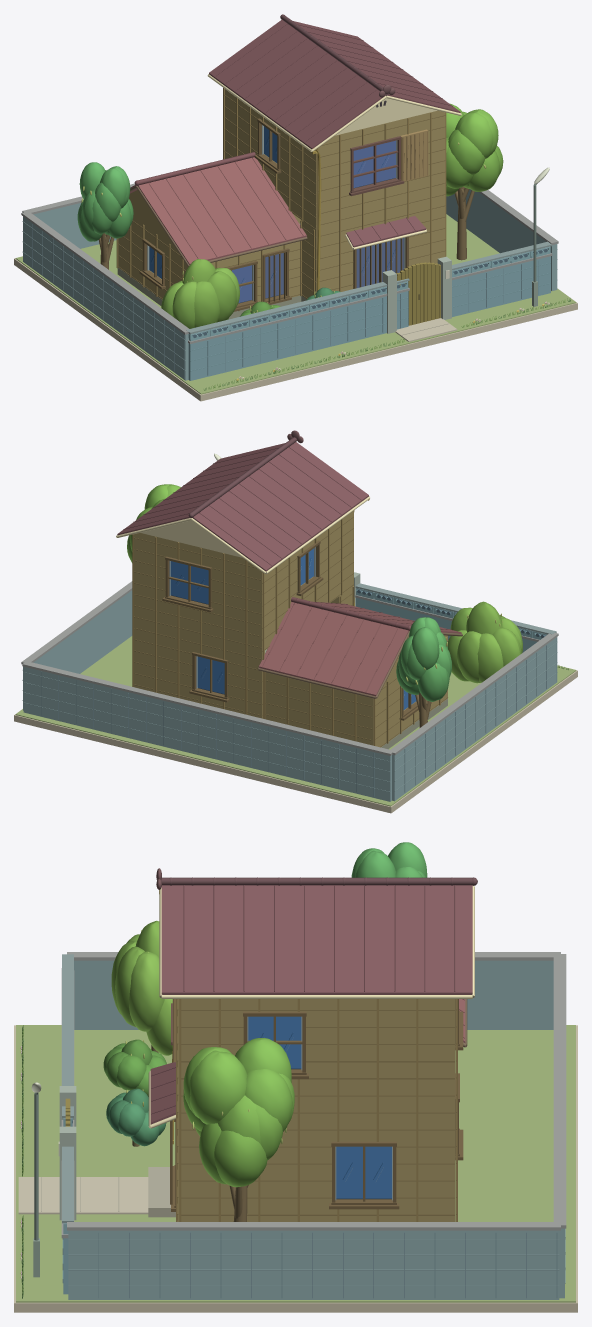
File: kosugi-house.glb
The picture shows the model from 3 angles, top to bottom: view 1: azimuth 30°, elevation 25°; view 2: azimuth 150°, elevation 25°; view 3: azimuth 270°, elevation 25°; orthographic projection. The views are drawn at different scales.
Visible parts, largest first — view 1: 庭院植物, 高屋正面木墙, 地块与通道, 高屋左坡, 低附屋前长坡, 左前蓝灰花砖墙, 左侧院墙, 右前蓝灰花砖墙, 高屋左上木墙, 右侧院墙, 高屋右坡, 弧顶木院门与石门柱 (+19 smaller); view 2: 后院墙, 高屋后木墙, 高屋左坡, 低附屋后坡, 左侧院墙, 庭院植物, 地块与通道, 高屋左上木墙, 附屋后木墙, 右侧院墙, 高屋右坡, 左前蓝灰花砖墙 (+10 smaller); view 3: 地块与通道, 高屋右木墙, 右侧院墙, 高屋右坡, 庭院植物, 左侧院墙, 右下补全窗, 后院墙, 高屋纵向屋脊, 右上补全窗, 高屋正面木墙, 左前蓝灰花砖墙 (+6 smaller).
Part boxes in pixels (x1,y1,x2,y2): 庭院植物: (77,103,503,328); 高屋正面木墙: (313,110,445,294); 地块与通道: (14,214,577,401); 高屋左坡: (207,20,386,151); 低附屋前长坡: (136,157,307,266); 左前蓝灰花砖墙: (186,278,409,380); 左侧院墙: (21,211,188,380); 右前蓝灰花砖墙: (452,241,552,316); 高屋左上木墙: (223,88,321,229); 右侧院墙: (446,189,558,290); 高屋右坡: (293,21,461,115); 弧顶木院门与石门柱: (382,256,451,333); 后院墙: (22,662,393,801); 高屋后木墙: (132,533,264,718); 高屋左坡: (191,442,369,574); 低附屋后坡: (257,602,409,698); 左侧院墙: (388,632,558,801); 庭院植物: (127,484,522,727); 地块与通道: (14,636,577,813); 高屋左上木墙: (256,513,353,652); 附屋后木墙: (264,672,376,746); 右侧院墙: (21,581,132,710); 高屋右坡: (116,443,284,537); 左前蓝灰花砖墙: (355,583,556,652); 地块与通道: (14,1025,577,1312); 高屋右木墙: (178,999,455,1221); 右侧院墙: (67,1222,560,1299); 高屋右坡: (159,885,474,998); 庭院植物: (103,842,427,1221); 左侧院墙: (67,952,560,1029); 右下补全窗: (329,1141,399,1209); 后院墙: (553,954,566,1298); 高屋纵向屋脊: (161,877,477,885); 右上补全窗: (243,1011,308,1079); 高屋正面木墙: (176,999,187,1221); 左前蓝灰花砖墙: (61,954,74,1126).
Size of the model in its own units: 14 by 7.95 by 12.
